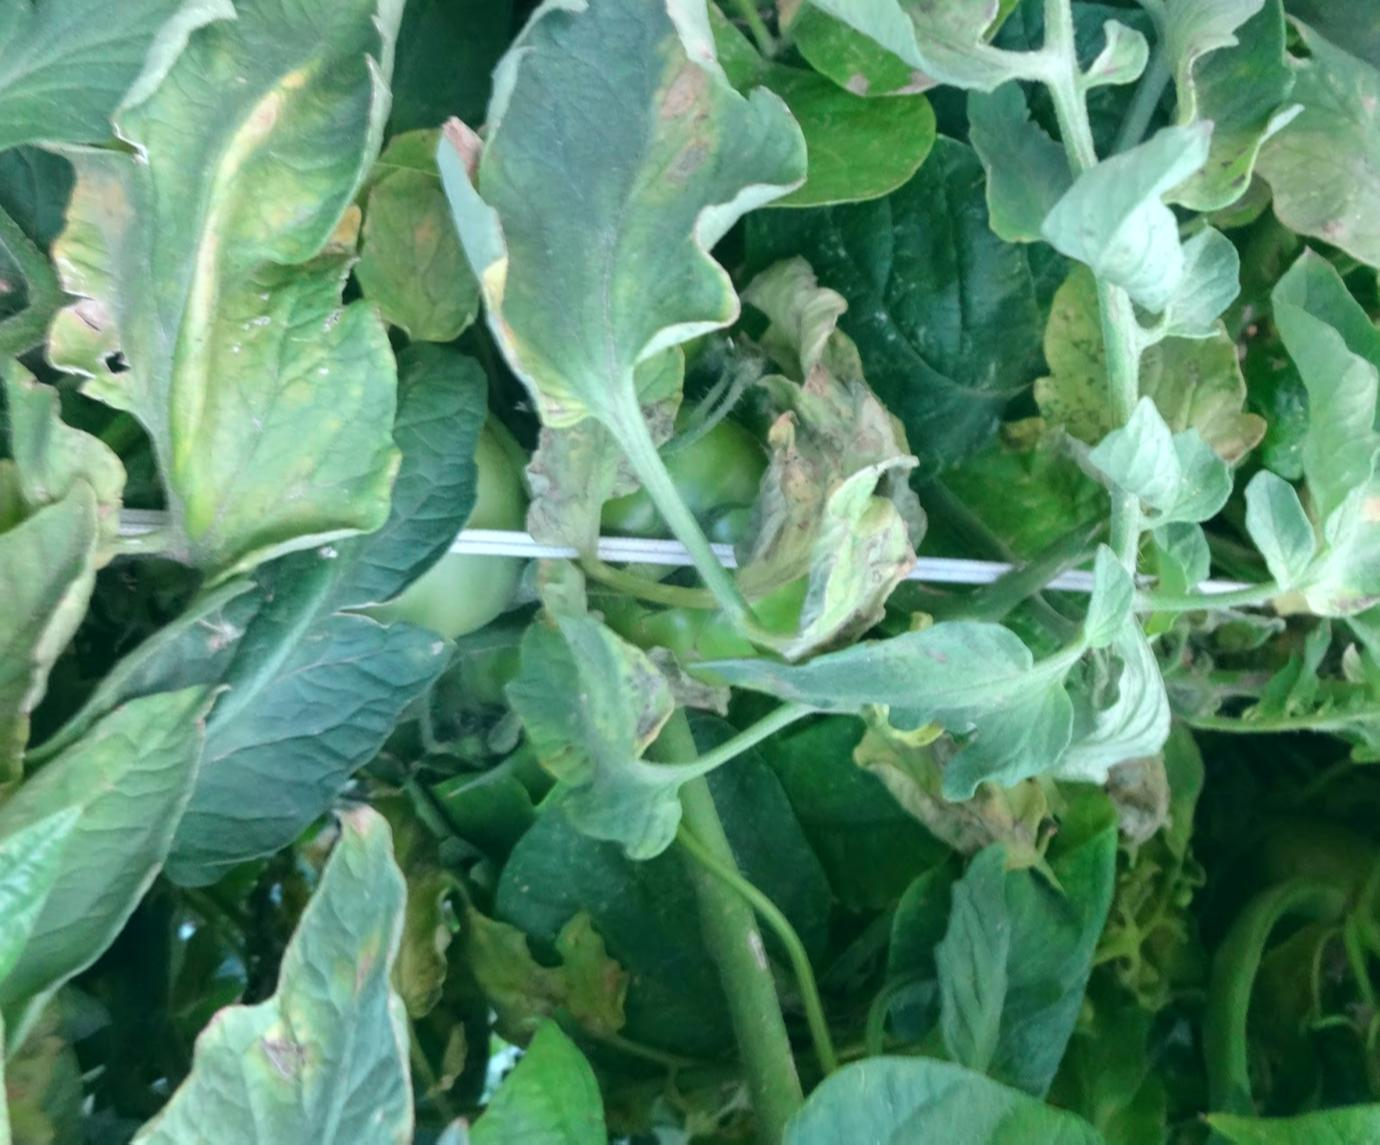Tomato leaf late blight: (445, 0, 800, 479), (56, 785, 466, 1145), (688, 624, 1089, 815), (497, 579, 701, 873), (1239, 220, 1380, 644)
